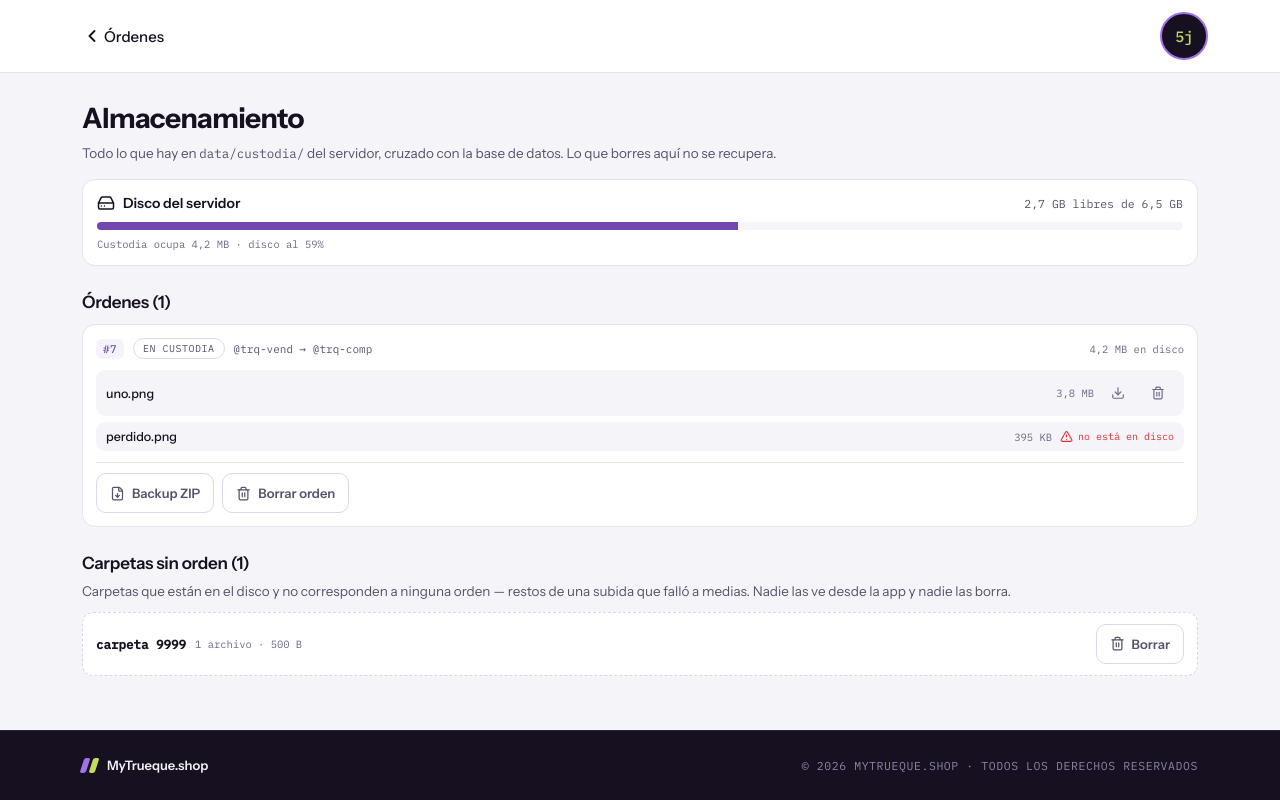
Scenario: AdminPage › ningún borrado ocurre al primer clic
Click the button with aria-label "Borrar toda la orden 7".
click(286, 493)  # box [222,473,349,513]
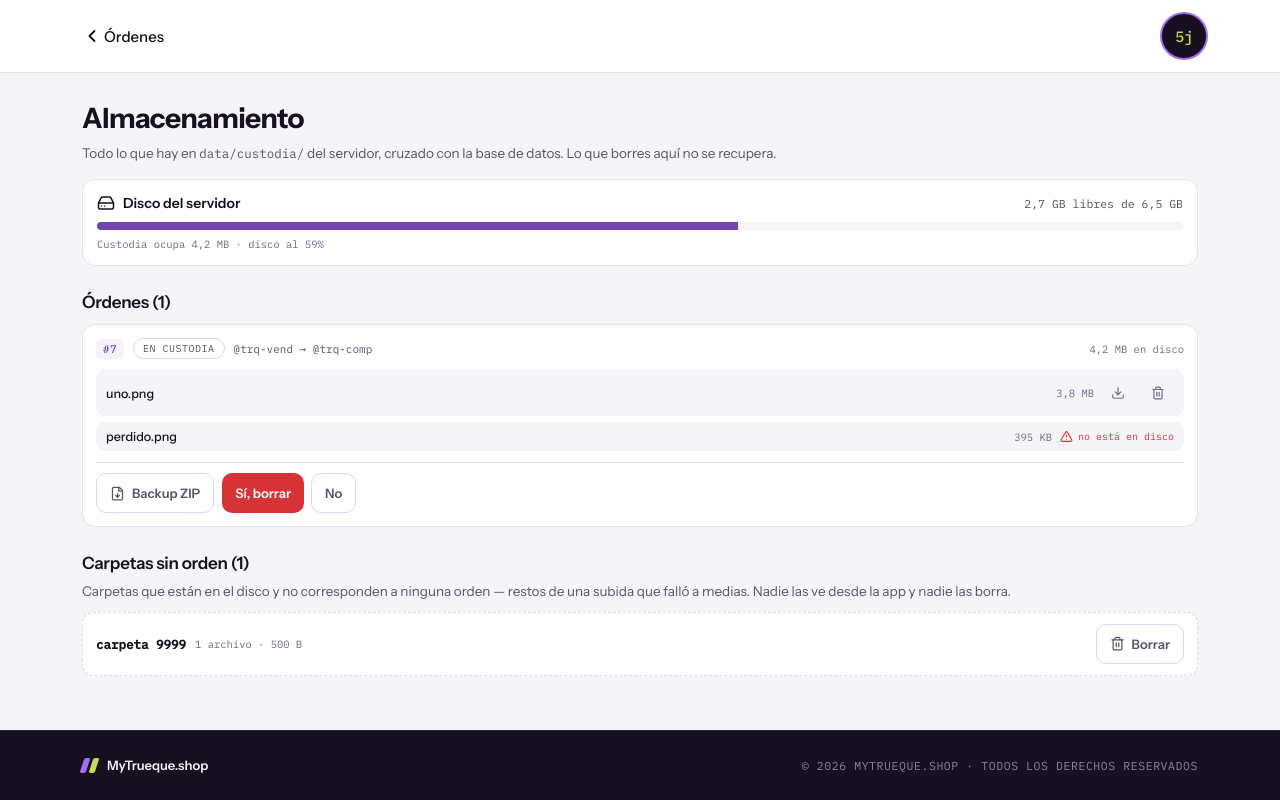
expect the button with aria-label "Confirmar: Borrar toda la orden 7" is shown: met, box [222,473,304,513]
